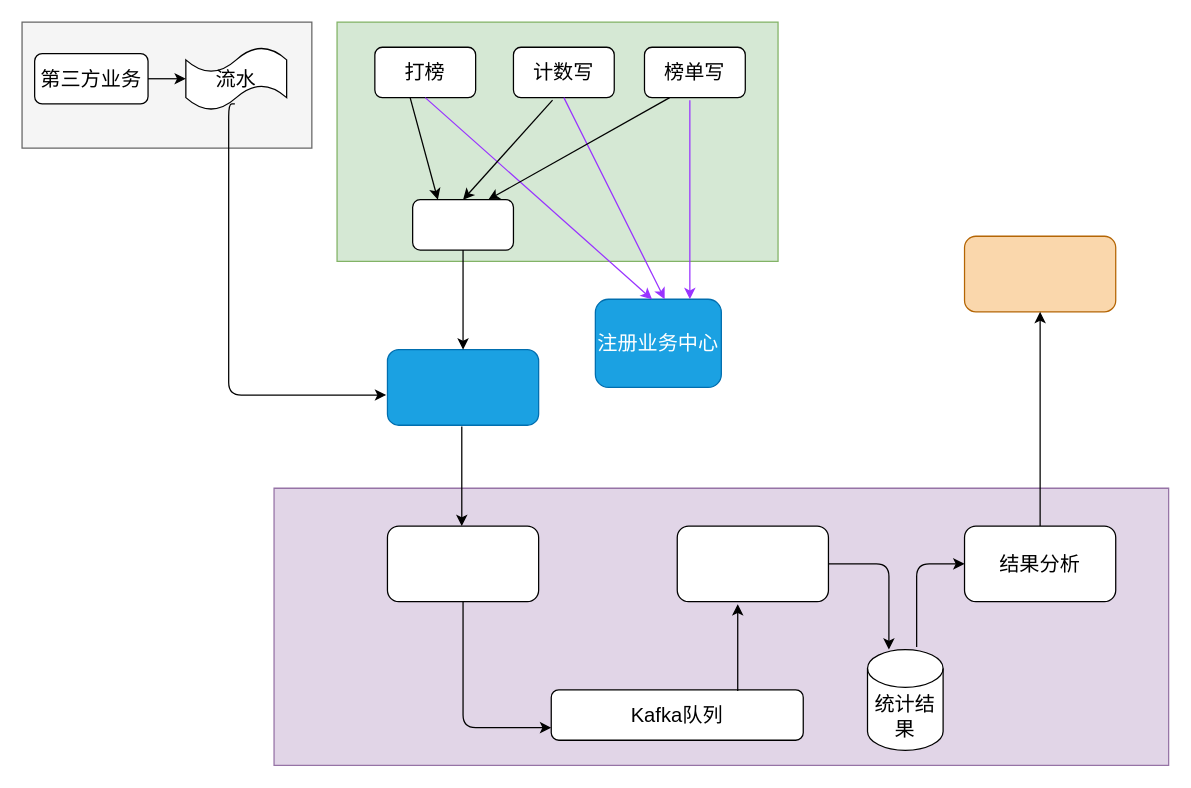
This 1191x788 diagram has some shape labels left out. Each missing label, with the box of its shape:
上报Agent: (411, 198, 513, 250)
数据中心: (386, 348, 539, 425)
数据统计: (676, 525, 828, 602)
数据解析: (386, 525, 539, 602)
运营报表: (963, 235, 1116, 312)
